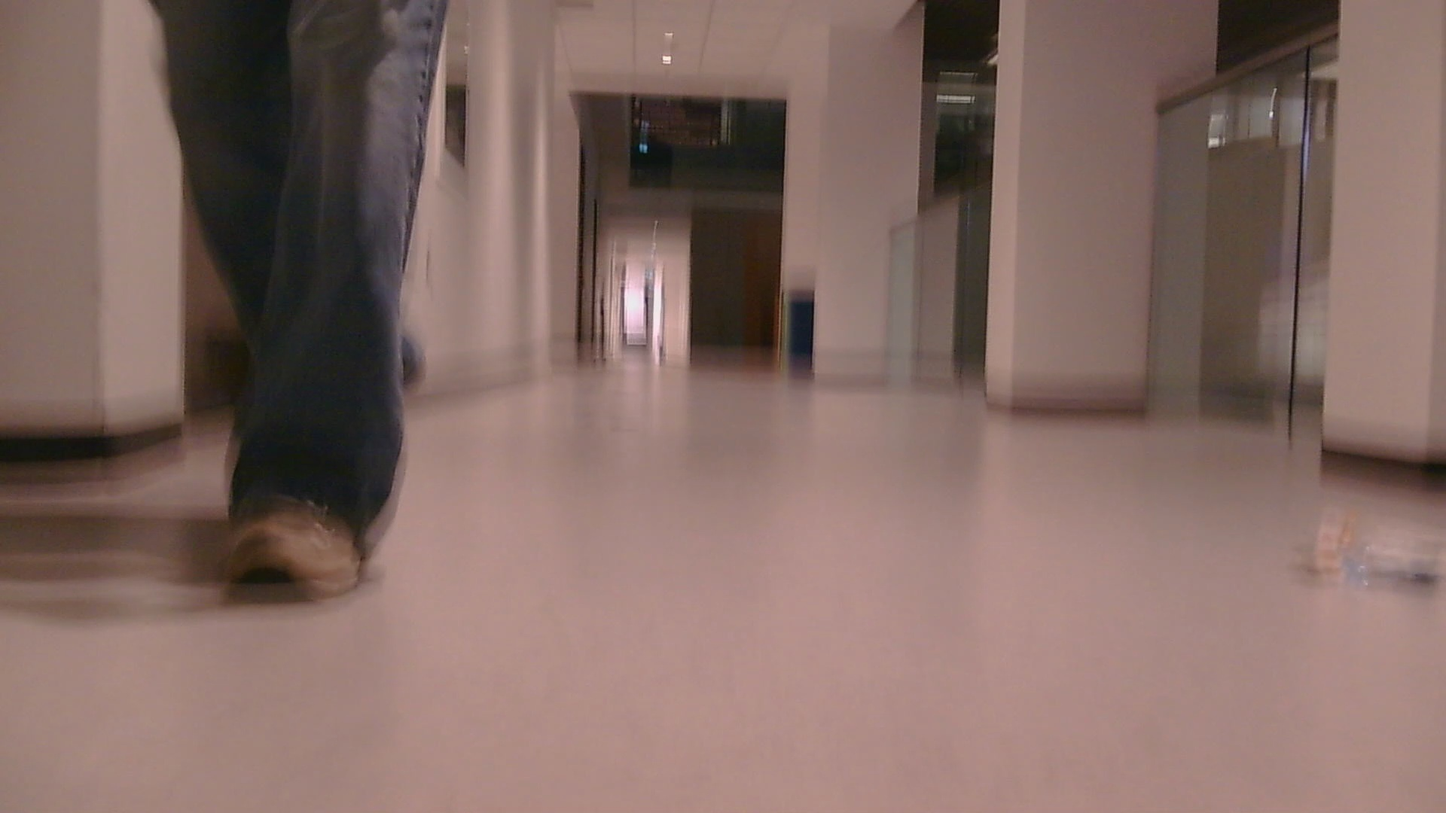carton: (1294, 512, 1446, 624)
